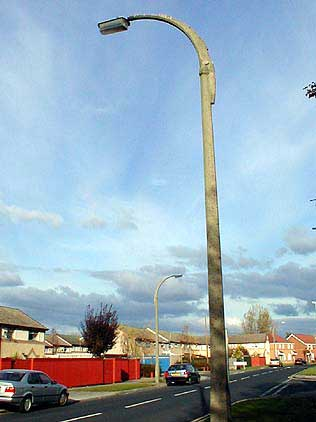light_pole: (129, 10, 234, 418)
